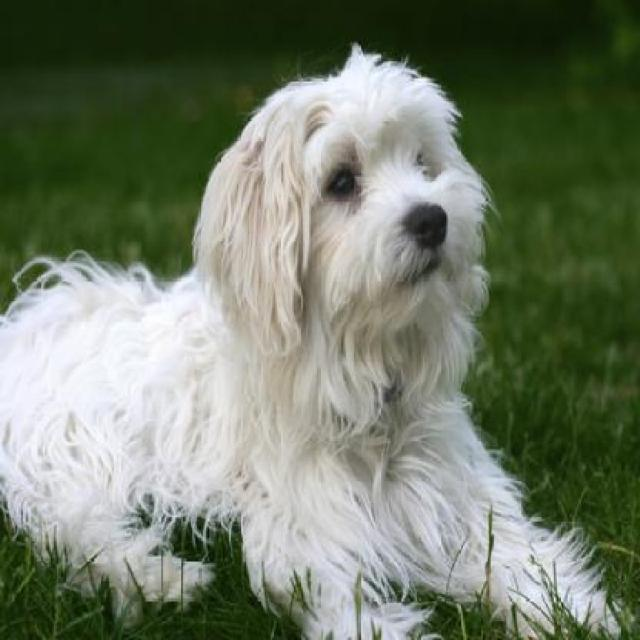Dog: (6, 38, 626, 634)
